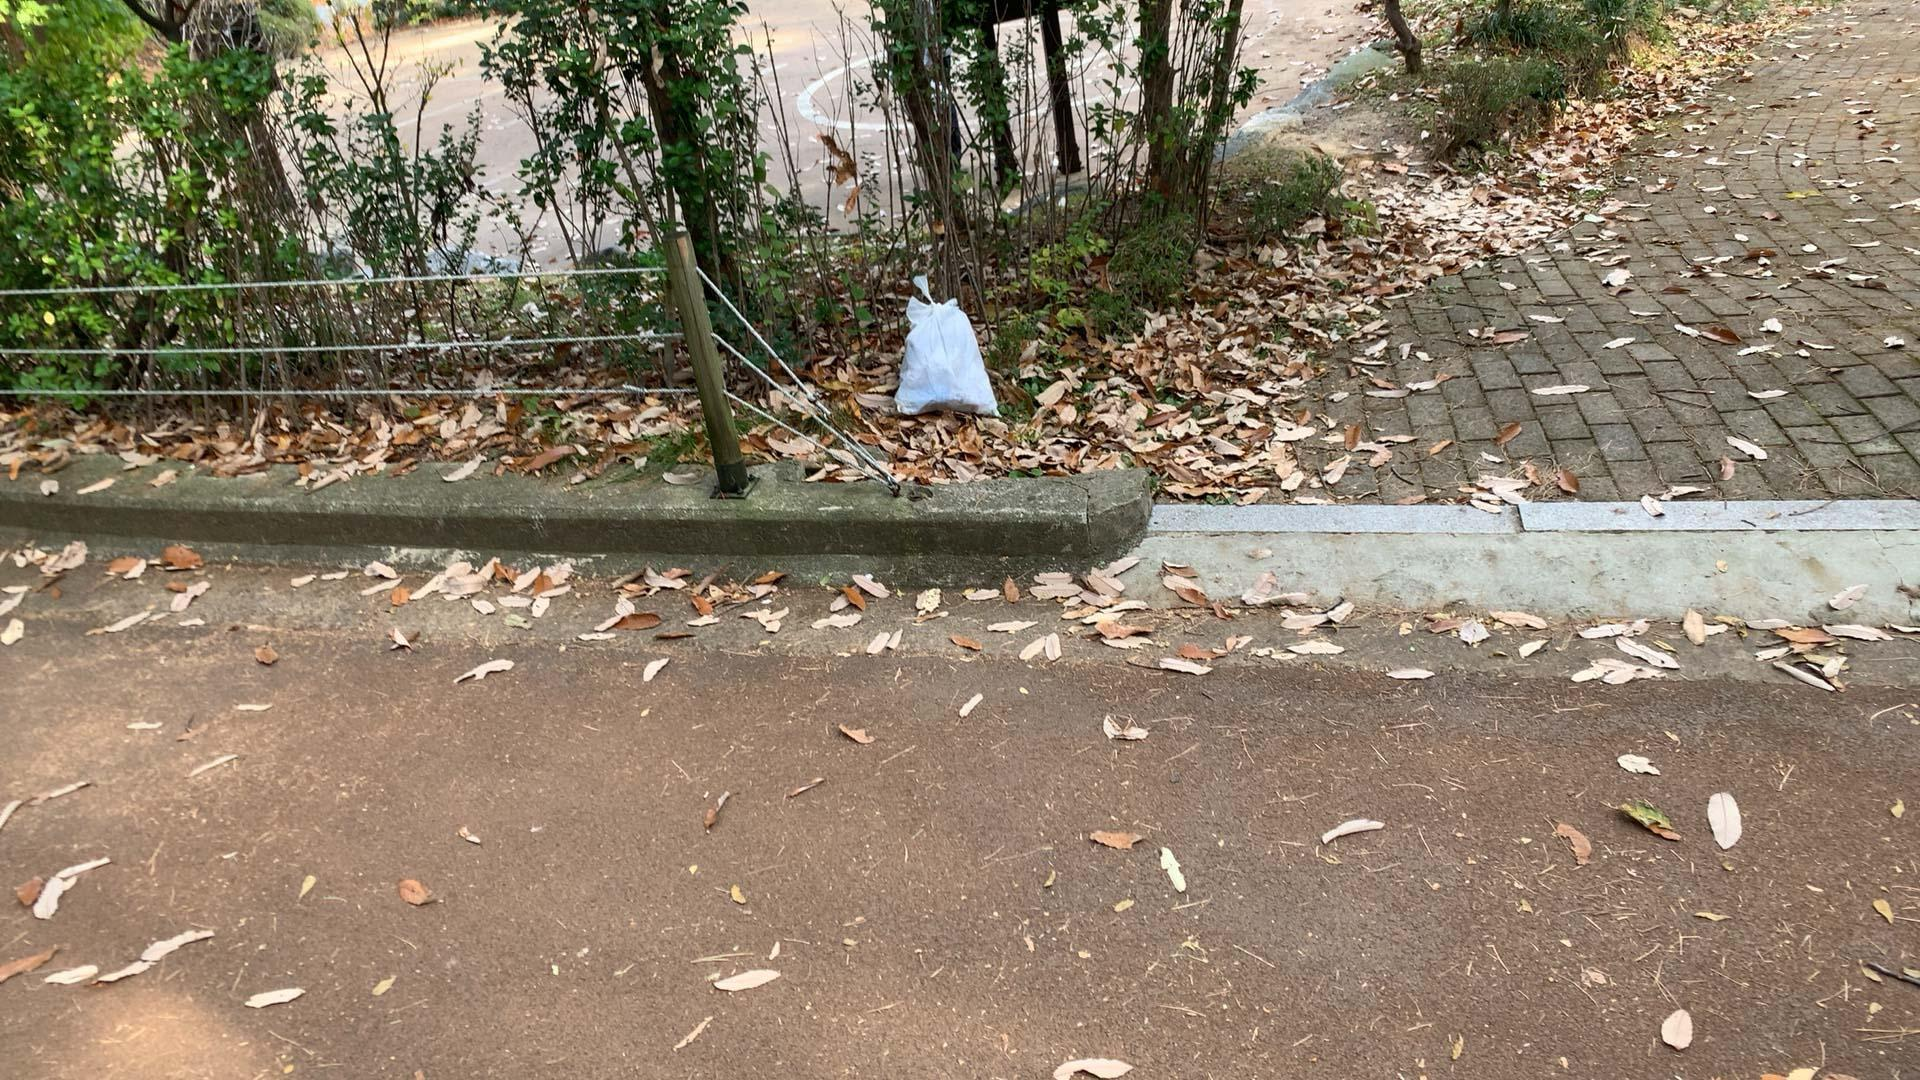white_bag: (884, 260, 1007, 429)
